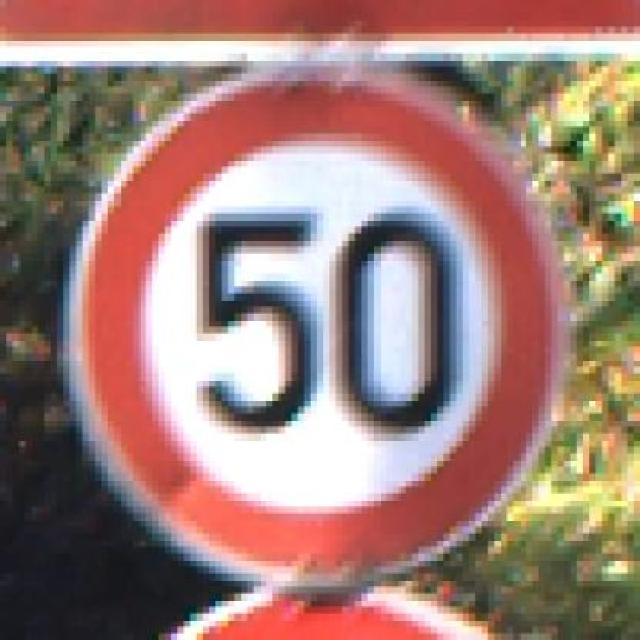Speed limit 50: (61, 69, 570, 589)
